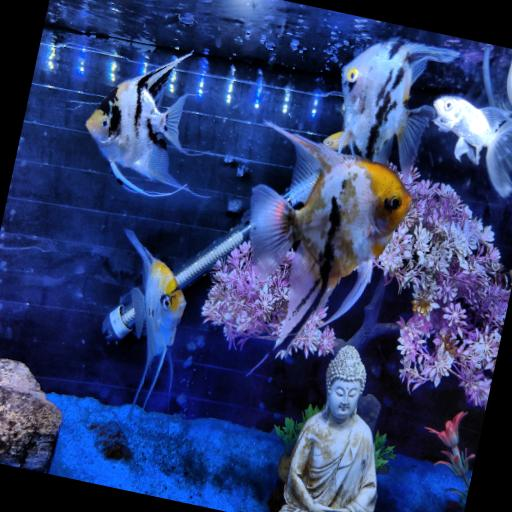Fish: (250, 124, 411, 349), (338, 38, 458, 172), (86, 54, 191, 196), (127, 231, 186, 407), (434, 96, 511, 198), (323, 132, 343, 150)
